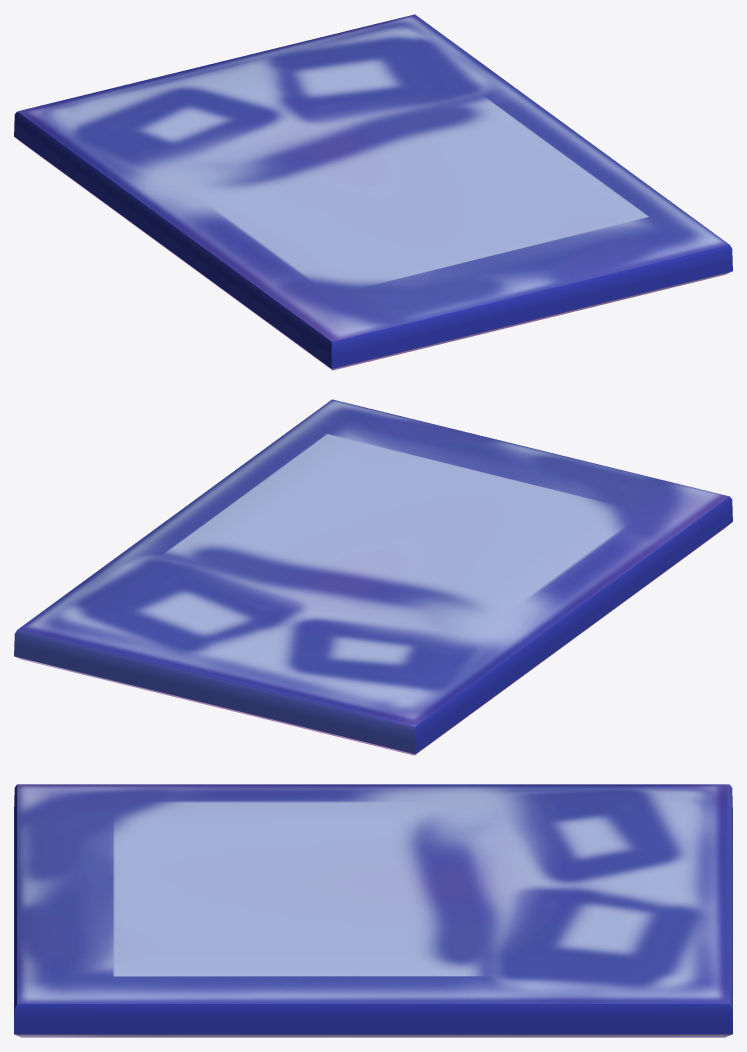
File: MDL_Bedroom_Matress_01.fbx
3 renders of one model, top to bottom at view 1: azimuth 30°, elevation 25°; view 2: azimuth 150°, elevation 25°; view 3: azimuth 270°, elevation 25°, orthographic. The views are drawn at different scales.
Parts seen in each view (by area): view 1: MDL_Bedroom_Bed_01.002; view 2: MDL_Bedroom_Bed_01.002; view 3: MDL_Bedroom_Bed_01.002.
Part boxes in pixels (x1,y1,x2,y2): MDL_Bedroom_Bed_01.002: (14,14,732,370); MDL_Bedroom_Bed_01.002: (14,399,732,755); MDL_Bedroom_Bed_01.002: (14,784,732,1037).
Size of the model in its own units: 186 by 17.23 by 255.
